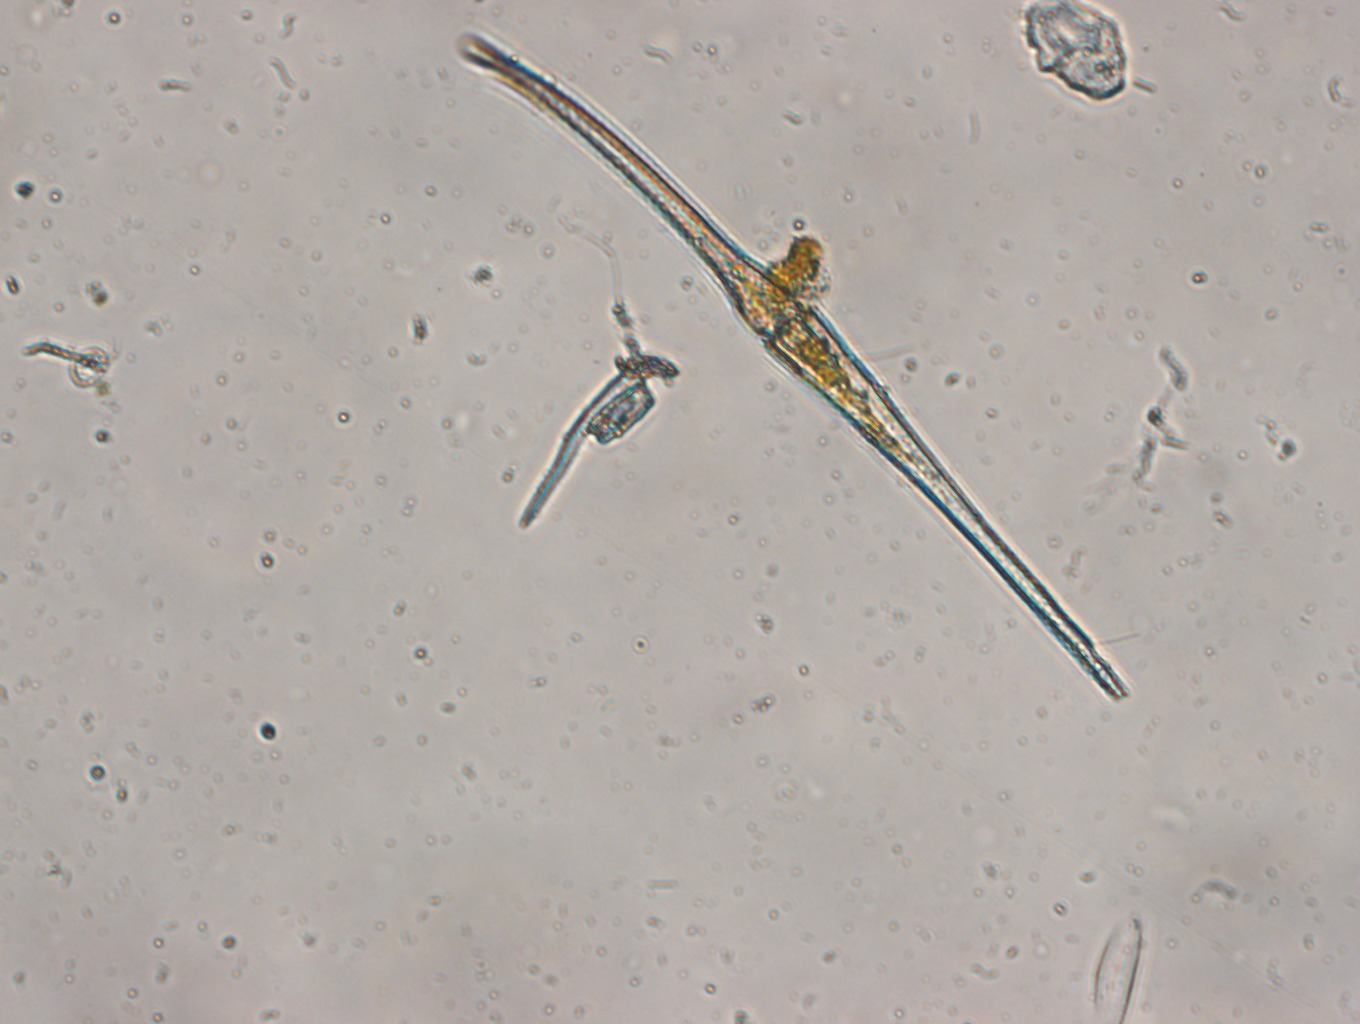ceratium fusus: (455, 37, 1131, 709)
